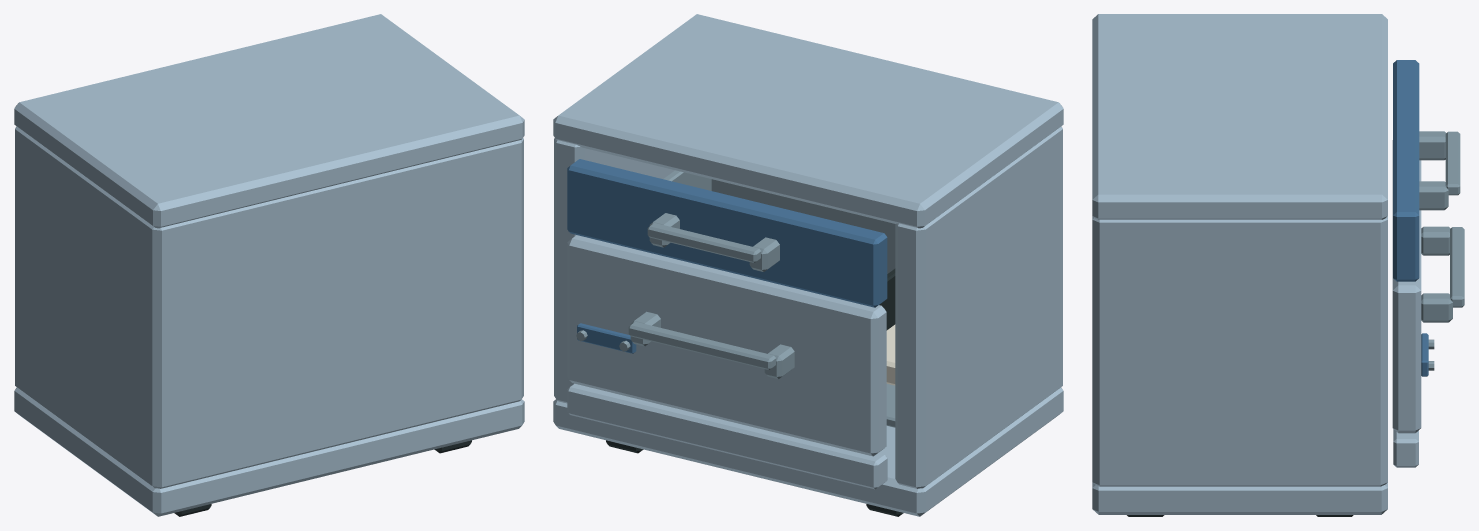
The model's file is port_manifest_drawer.glb.
3 renders of one model, left to right at view 1: azimuth 30°, elevation 25°; view 2: azimuth 150°, elevation 25°; view 3: azimuth 270°, elevation 25°, orthographic. The views are drawn at different scales.
Parts seen in each view (by area): view 1: body_back_wall, body_roof, body_side_wall (×2), body_floor; view 2: body_roof, body_side_wall (×2), moving_drawer_face, fixed_upper_fascia, body_floor, fixed_lower_fascia, body_back_wall, moving_tray_back, moving_pull_grip, fixed_upper_pull_grip, moving_drawer_id_plate, moving_pull_mount (+3 smaller); view 3: body_side_wall, body_roof, body_floor, fixed_upper_fascia, moving_drawer_face, body_back_wall, moving_pull_mount (×2), fixed_upper_pull_mount (×2), moving_pull_grip, fixed_upper_pull_grip, fixed_lower_fascia.
Part boxes in pixels (x1=…): body_back_wall: x1=141, y1=140, x2=521, y2=488; body_roof: x1=14, y1=14, x2=524, y2=228; body_side_wall (×2): x1=15, y1=126, x2=523, y2=488; body_floor: x1=14, y1=387, x2=524, y2=516; body_roof: x1=553, y1=14, x2=1063, y2=228; body_side_wall (×2): x1=554, y1=126, x2=1062, y2=488; moving_drawer_face: x1=567, y1=235, x2=886, y2=456; fixed_upper_fascia: x1=567, y1=159, x2=887, y2=307; body_floor: x1=553, y1=387, x2=1063, y2=516; fixed_lower_fascia: x1=567, y1=383, x2=887, y2=489; body_back_wall: x1=1052, y1=127, x2=1062, y2=393; moving_tray_back: x1=711, y1=179, x2=895, y2=273; moving_pull_grip: x1=628, y1=321, x2=776, y2=369; fixed_upper_pull_grip: x1=647, y1=223, x2=761, y2=262; moving_drawer_id_plate: x1=577, y1=323, x2=636, y2=353; moving_pull_mount: x1=764, y1=344, x2=794, y2=379; body_side_wall: x1=1092, y1=216, x2=1387, y2=486; body_roof: x1=1092, y1=14, x2=1387, y2=219; body_floor: x1=1092, y1=482, x2=1387, y2=514; fixed_upper_fascia: x1=1393, y1=60, x2=1419, y2=281; moving_drawer_face: x1=1392, y1=140, x2=1421, y2=433; body_back_wall: x1=1093, y1=217, x2=1120, y2=486; moving_pull_mount (×2): x1=1421, y1=226, x2=1452, y2=322; fixed_upper_pull_mount (×2): x1=1419, y1=131, x2=1448, y2=210; moving_pull_grip: x1=1450, y1=227, x2=1464, y2=307; fixed_upper_pull_grip: x1=1445, y1=131, x2=1460, y2=195; fixed_lower_fascia: x1=1393, y1=429, x2=1418, y2=467.
Size of the model in its own units: 1.04 by 0.89 by 0.8815.
